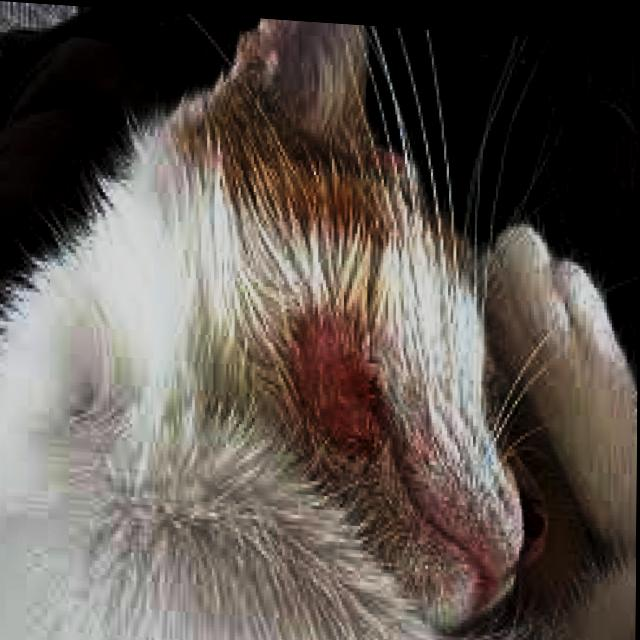ringworm: (294, 310, 385, 456)
